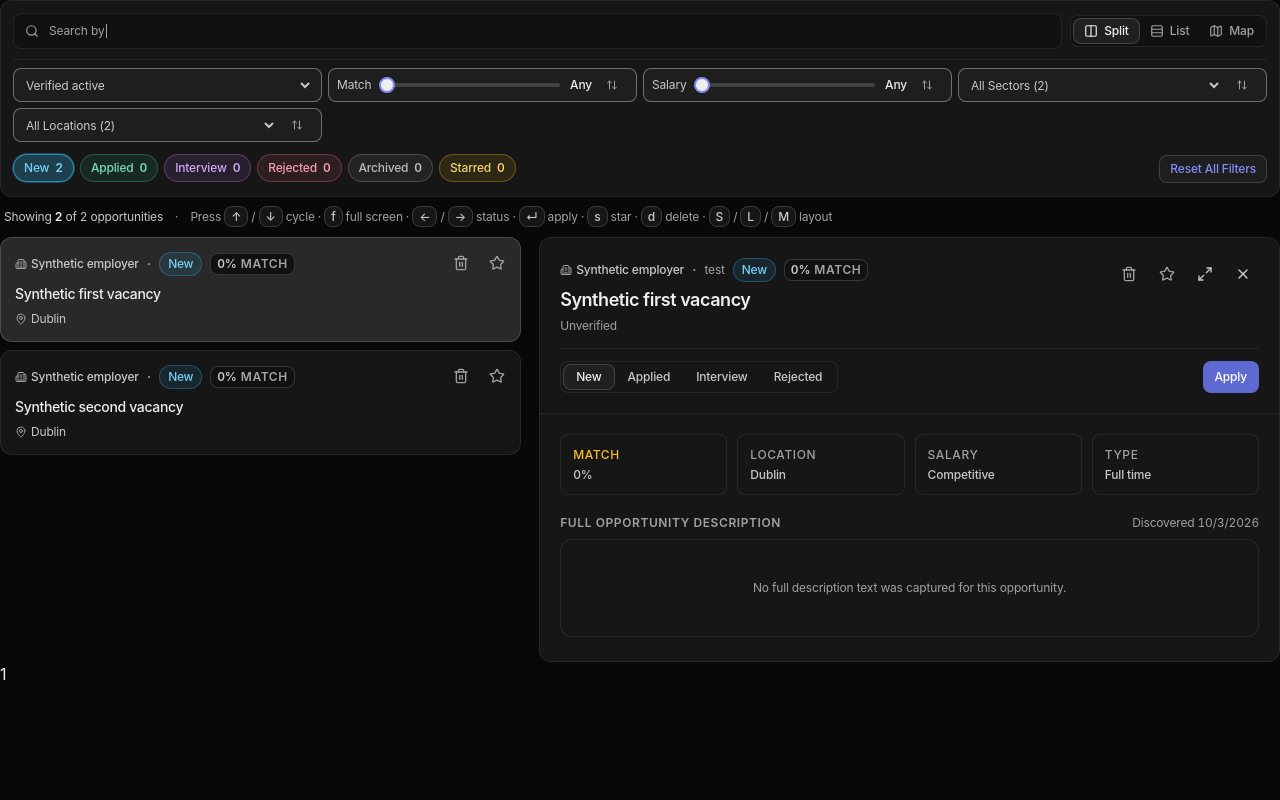
JobsView Search Input › keeps list arrow navigation out of fullscreen (compact: false)
Click the button "List": point(1170, 31) [1140,19,1199,43]
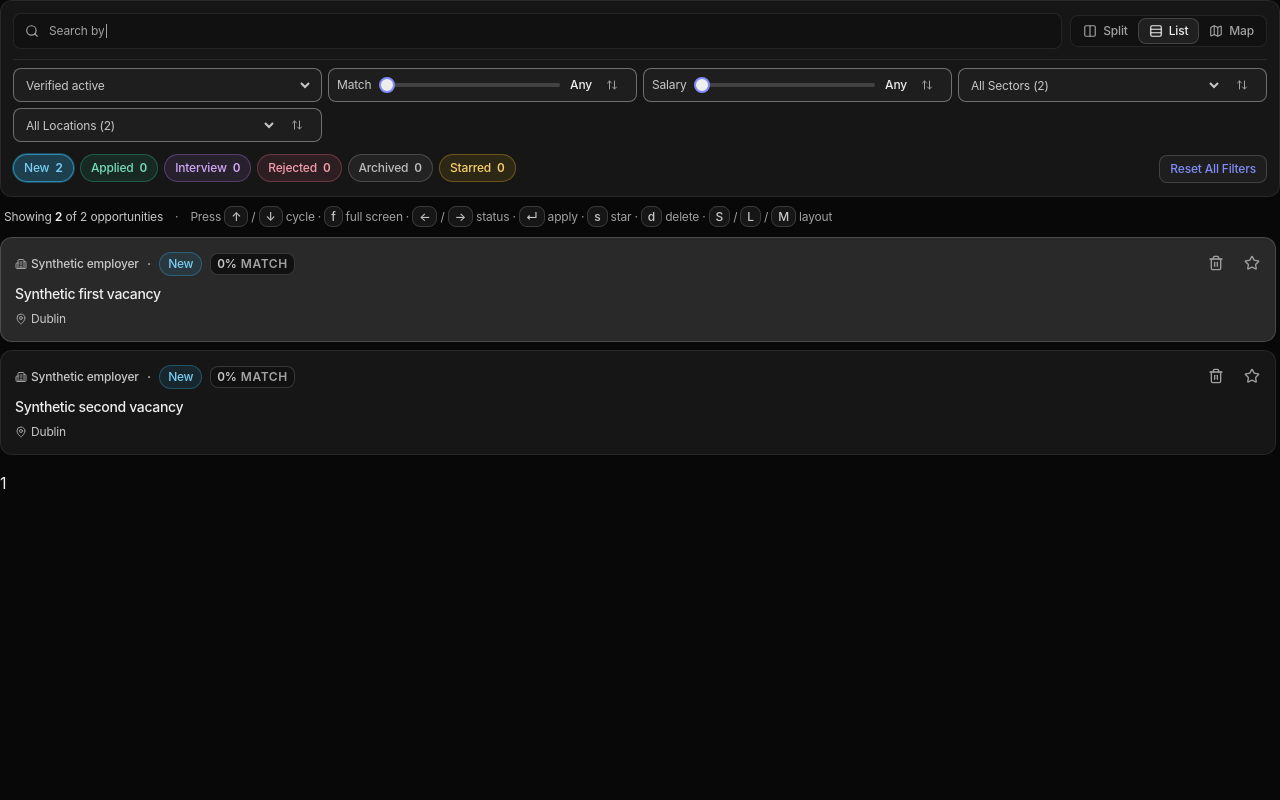
Press ArrowDown
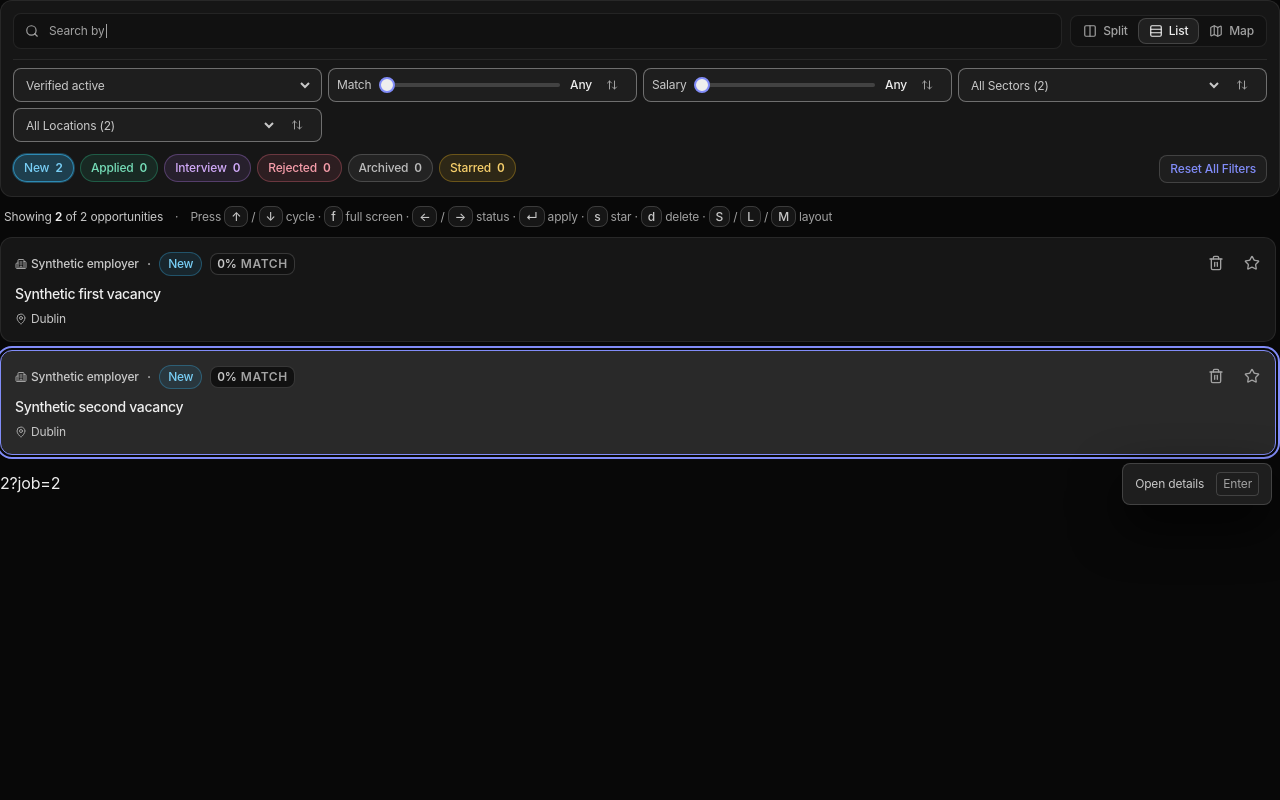
Now the text with test id "selection" reads "2", box [0,473,10,493]
Now the text with test id "location" shows "job=2", box [10,473,60,493]
Press ArrowUp
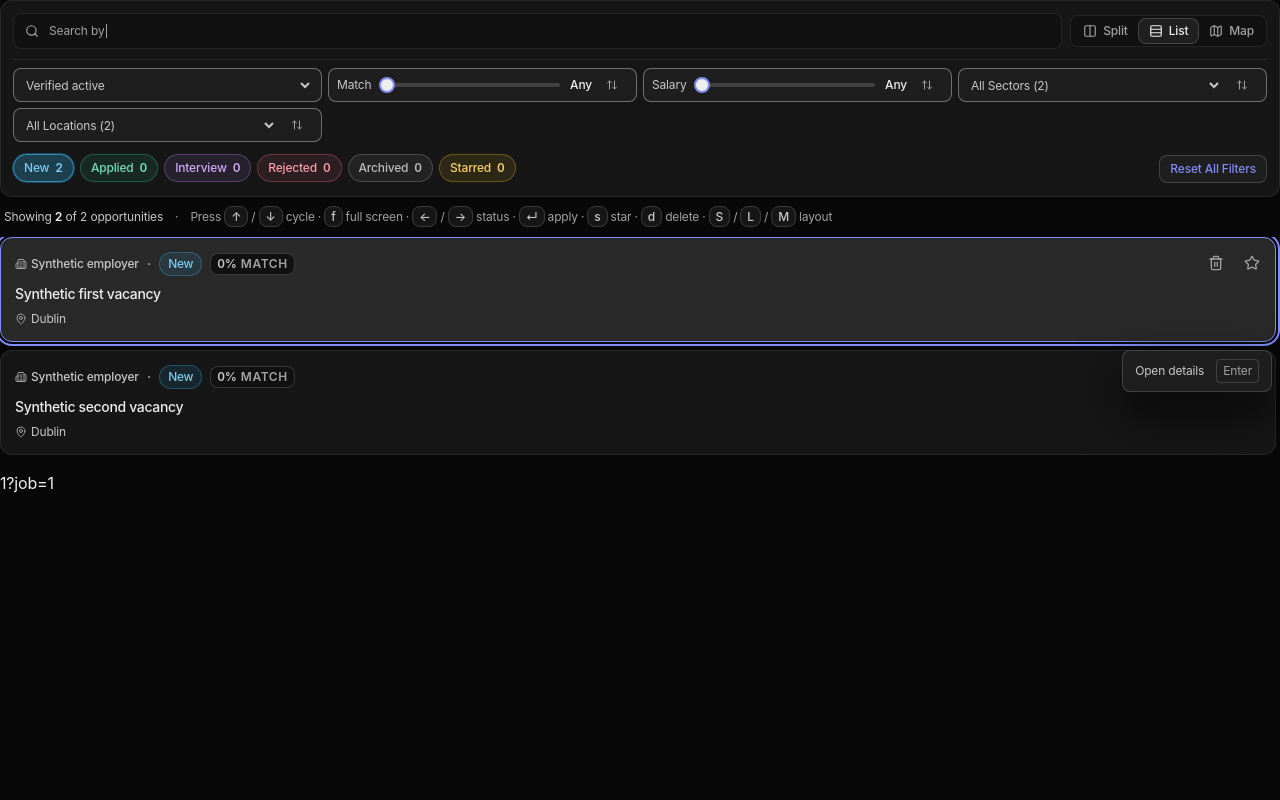
Now the text with test id "selection" reads "1", box [0,473,6,493]
Press f
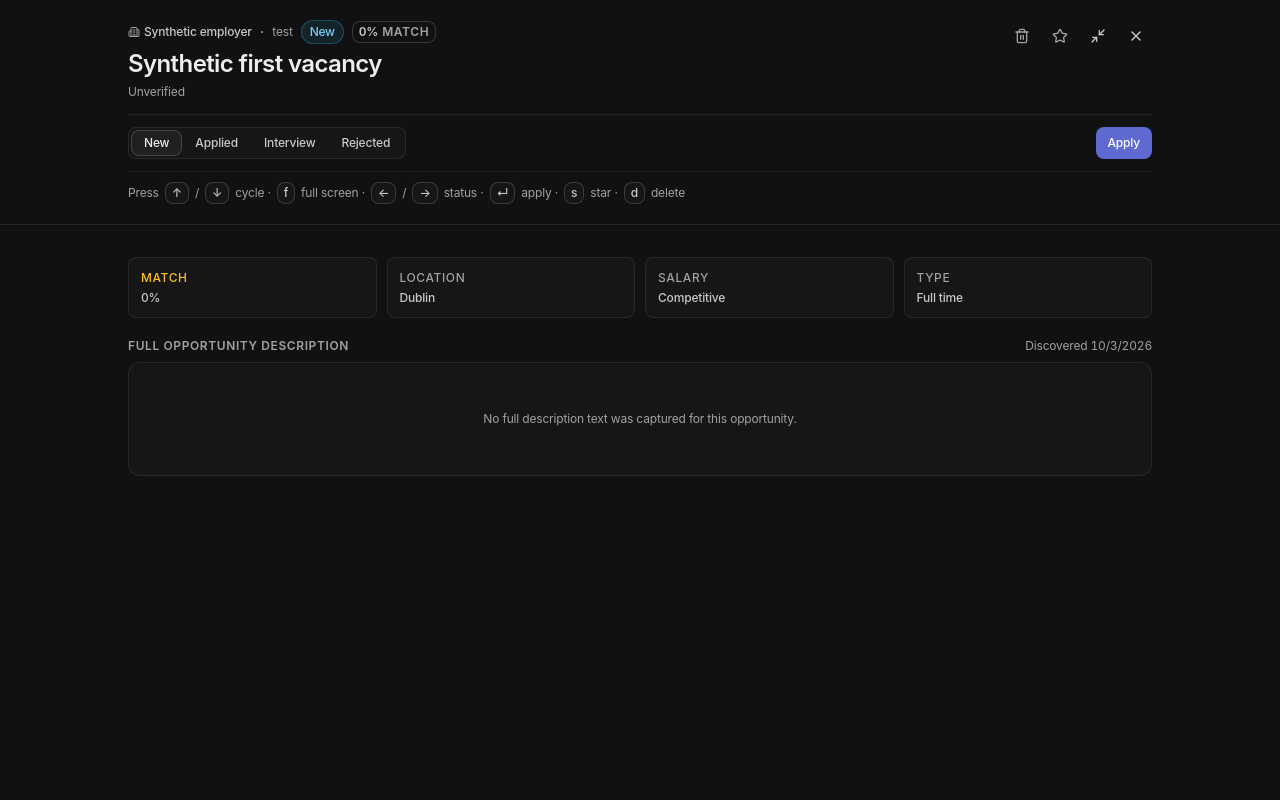
Now the dialog shows "Synthetic first vacancy", box [128,49,382,78]
Press ArrowDown
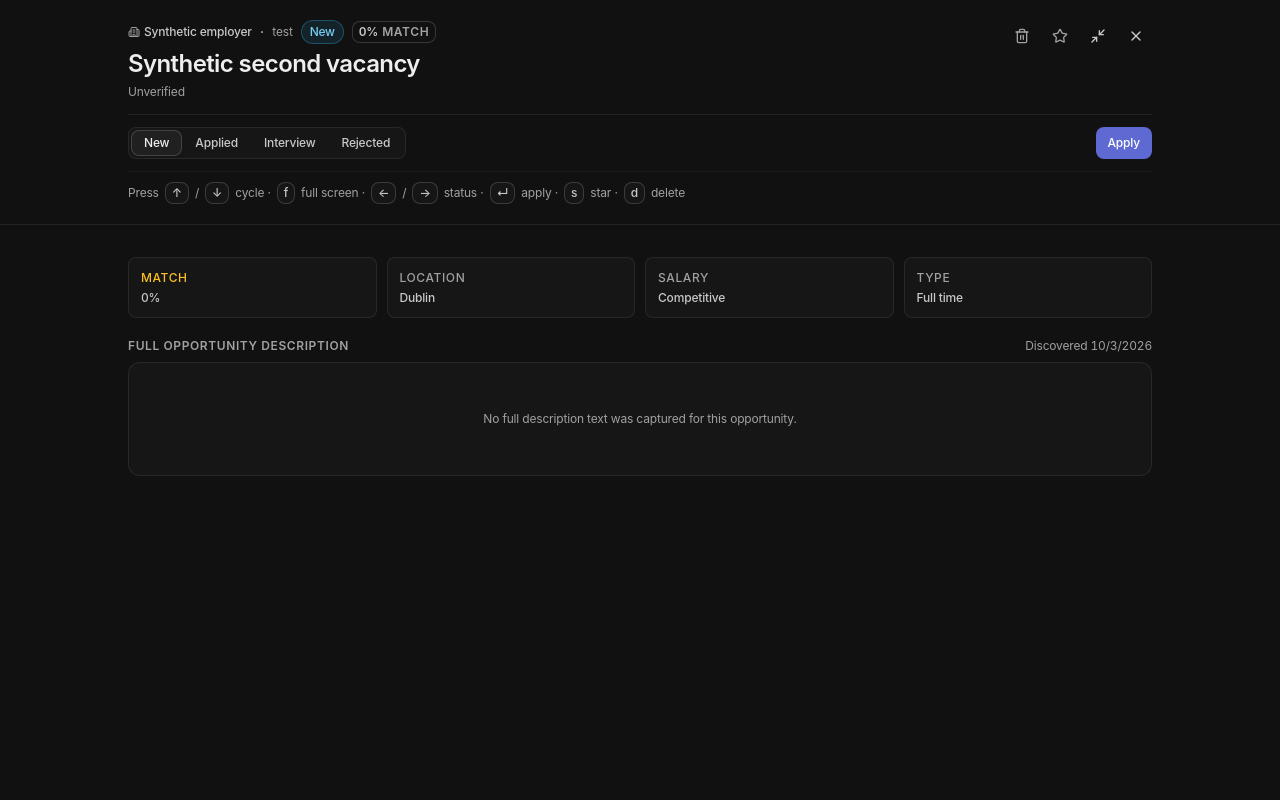
Now the dialog shows "Synthetic second vacancy", box [128,49,420,78]
Press ArrowUp
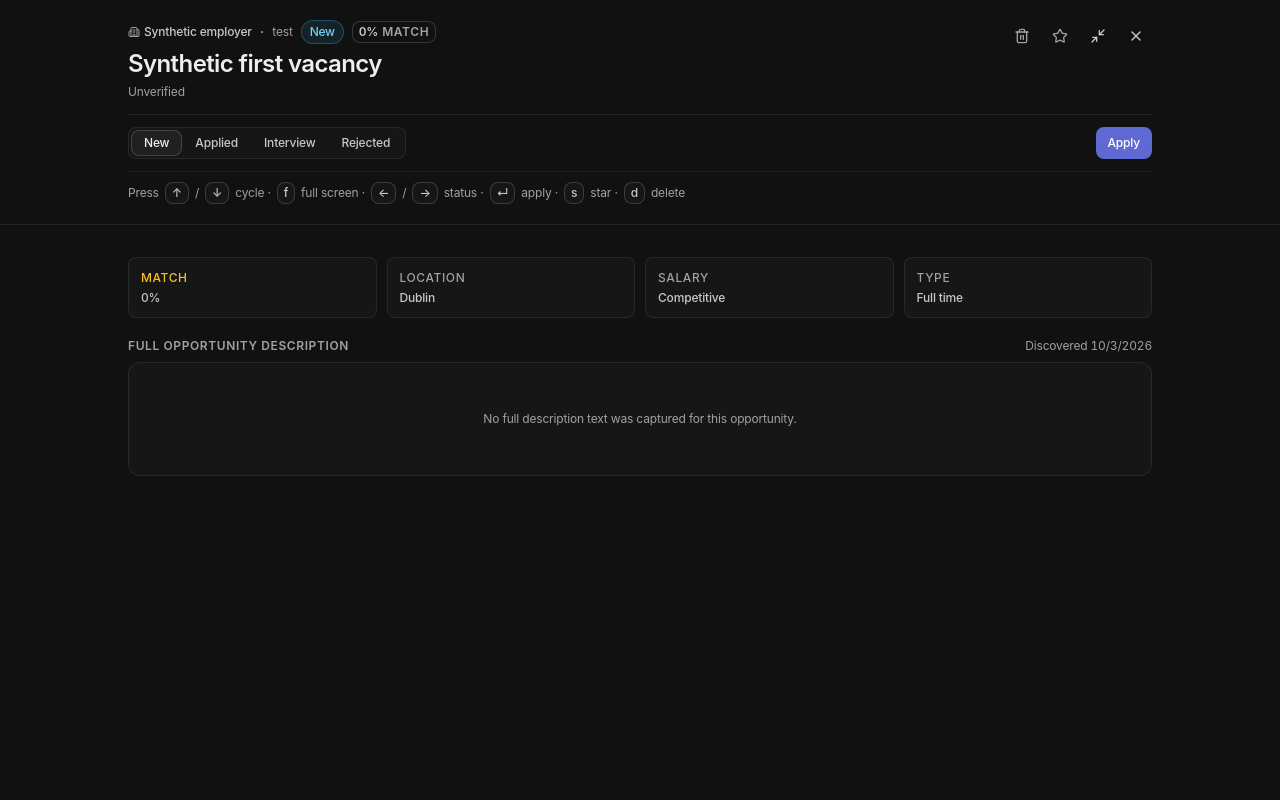
Now the dialog shows "Synthetic first vacancy", box [128,49,382,78]
